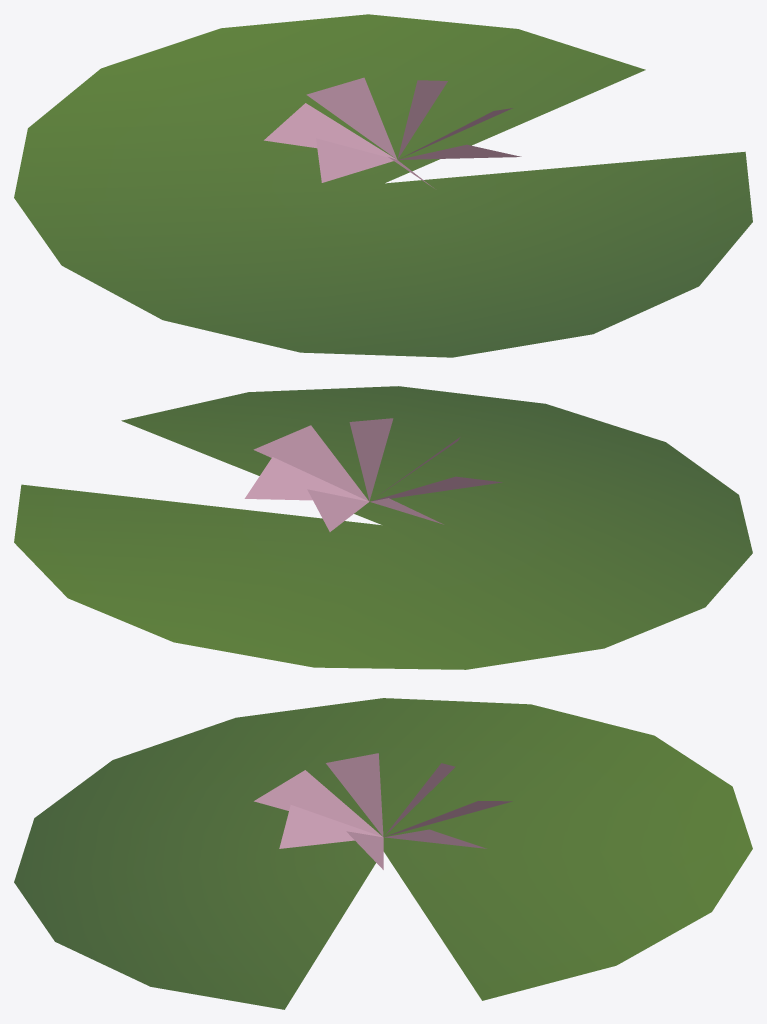
The model's file is lily.glb.
The picture shows the model from 3 angles, top to bottom: view 1: azimuth 30°, elevation 25°; view 2: azimuth 150°, elevation 25°; view 3: azimuth 270°, elevation 25°; orthographic projection.
Visible parts, largest first — view 1: Prop_lily; view 2: Prop_lily; view 3: Prop_lily.
Boxes of the visible parts, box(x1,y1,x2,y2) form: Prop_lily: box(14, 14, 752, 357); Prop_lily: box(14, 386, 752, 669); Prop_lily: box(14, 698, 752, 1009).
Size of the model in its own units: 0.9819 by 0.1249 by 0.9975.
